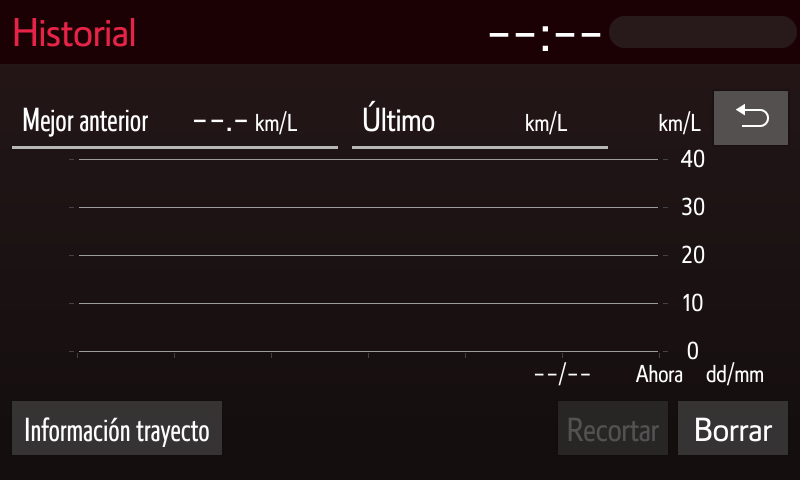touchPart: (11, 396, 233, 458), (675, 396, 791, 460), (709, 89, 791, 148)
untouchPart: (2, 92, 704, 388), (486, 7, 795, 56), (550, 397, 671, 460), (10, 9, 145, 62)
